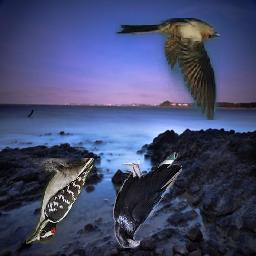Crow: (114, 152, 183, 248)
Cuckoo: (116, 18, 221, 120)
Woodpecker: (26, 158, 94, 244)
